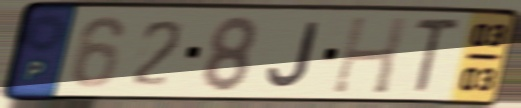2: (128, 17, 185, 88)
6: (69, 13, 127, 91)
8: (199, 13, 260, 94)
H: (328, 13, 411, 97)
J: (265, 19, 323, 89)
T: (408, 15, 465, 96)
